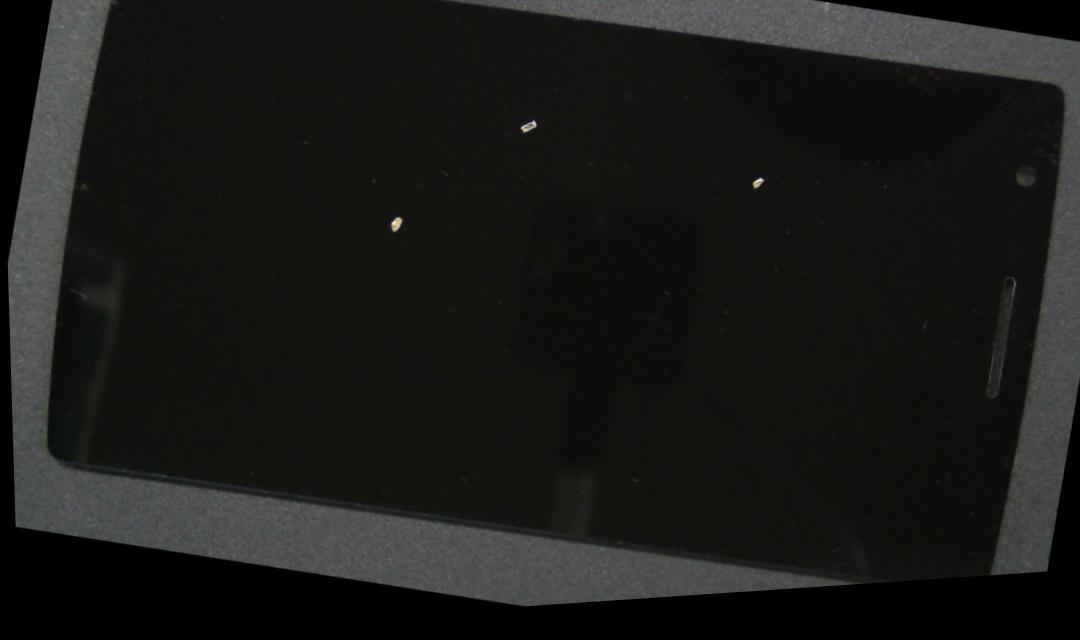Scratches: (510, 113, 549, 155), (374, 207, 411, 236), (746, 172, 777, 202)
